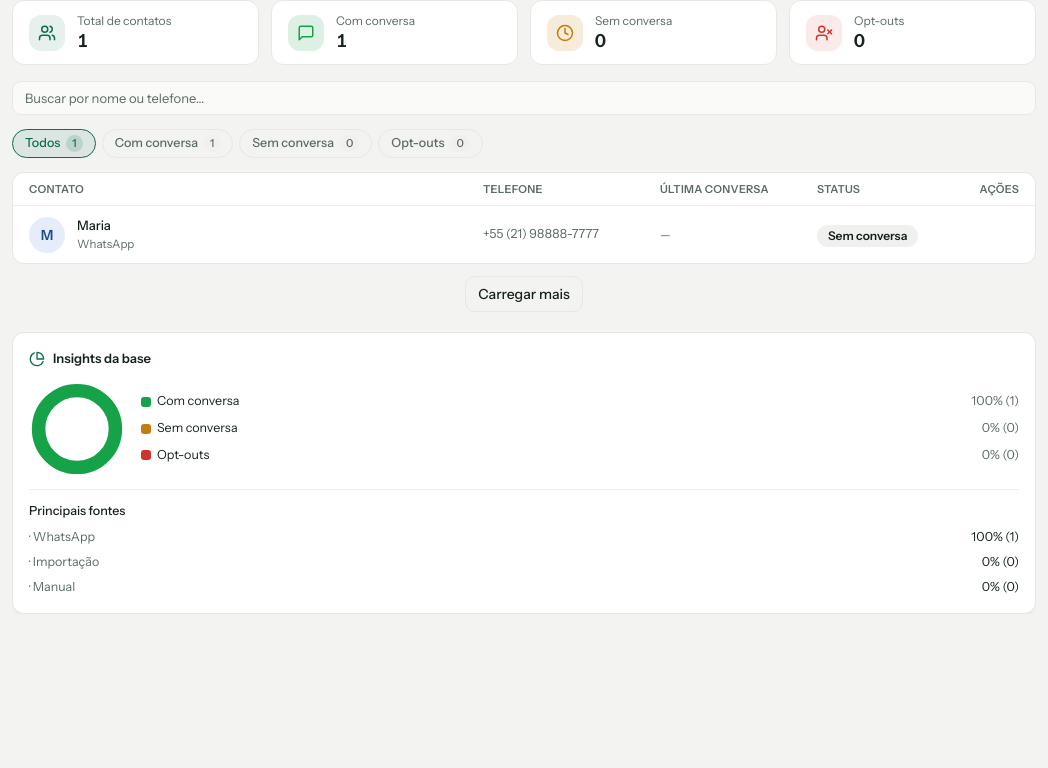
it: ContactsPanel (Fase L, Bloco L1b) › mostra "Carregar mais" quando há próxima página, e busca a página seguinte ao clicar
The image size is (1048, 768).
Check: the text "Maria" is shown, box [77,217,111,233]
Click the button "Carregar mais" at (524, 294), box [465,276,583,312]
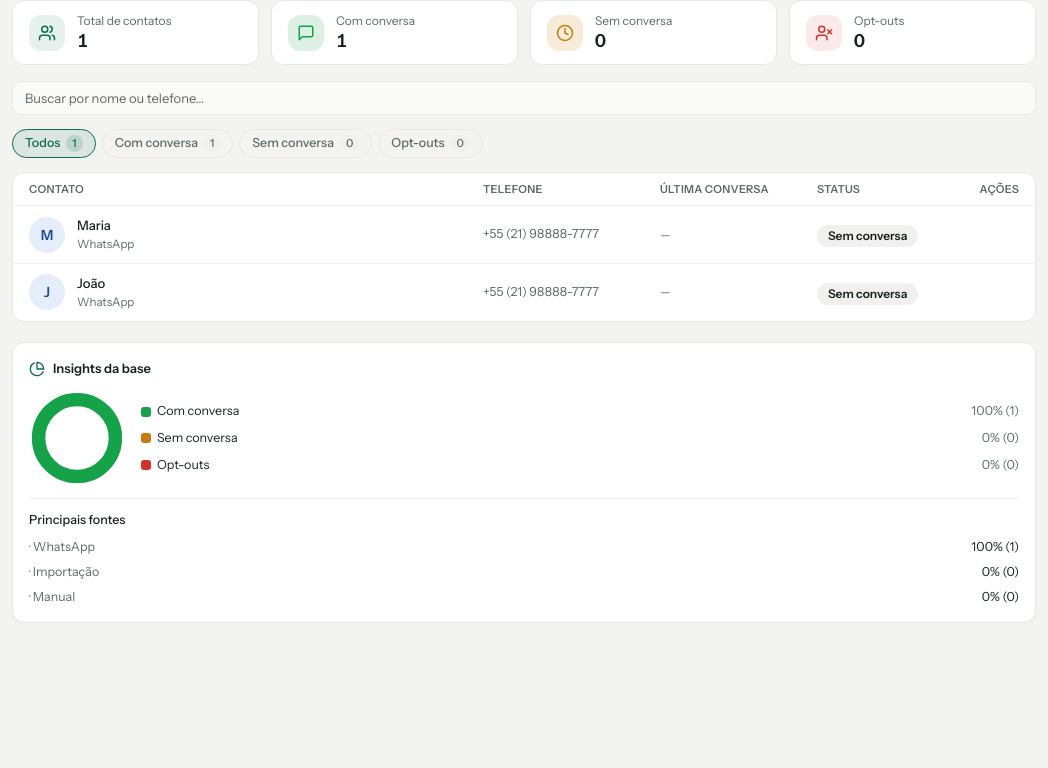
Check: the text "João" is shown, box [77,275,105,291]
